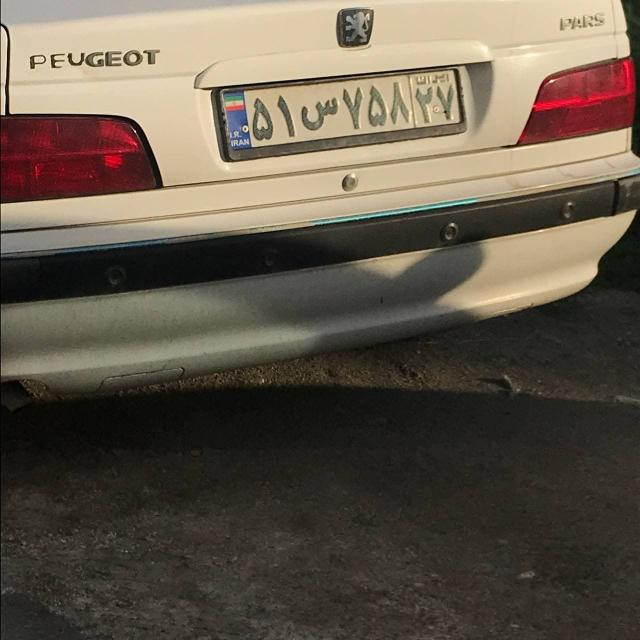Plates: (222, 65, 461, 150)
